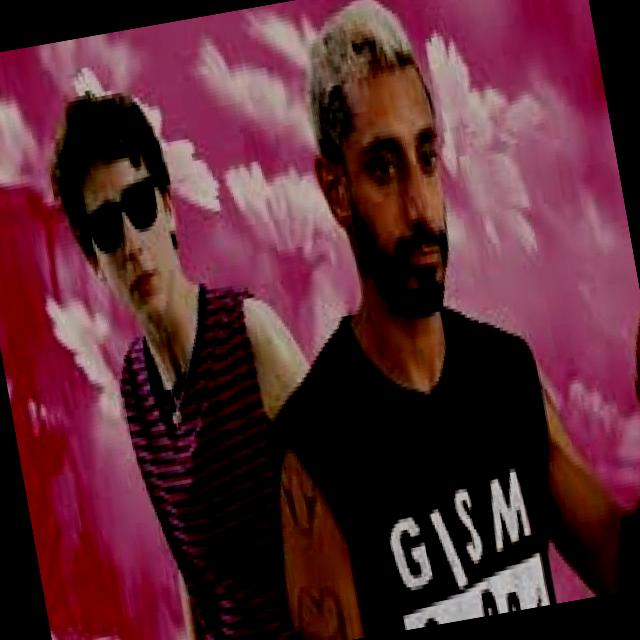no_vest: (246, 278, 579, 640), (103, 274, 316, 640)
